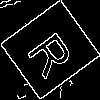R: (25, 25, 82, 80)
